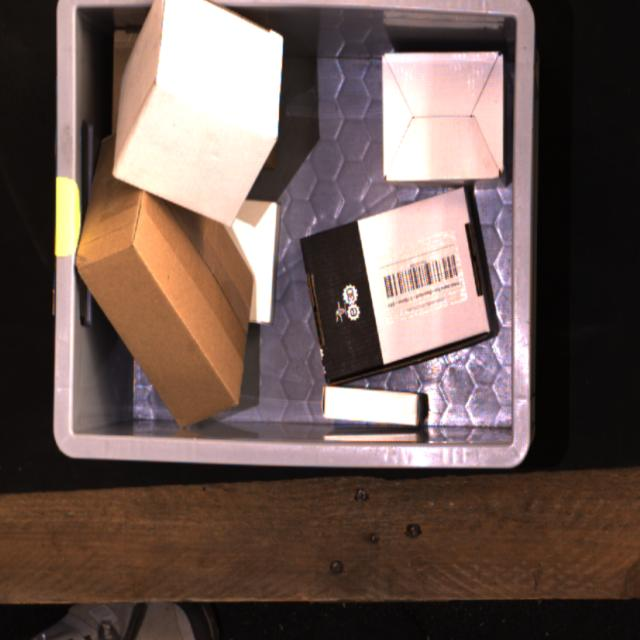Cardboard Box: (76, 134, 256, 427), (301, 188, 499, 386), (115, 0, 281, 223), (383, 52, 504, 182), (230, 202, 277, 322), (325, 387, 426, 426)
